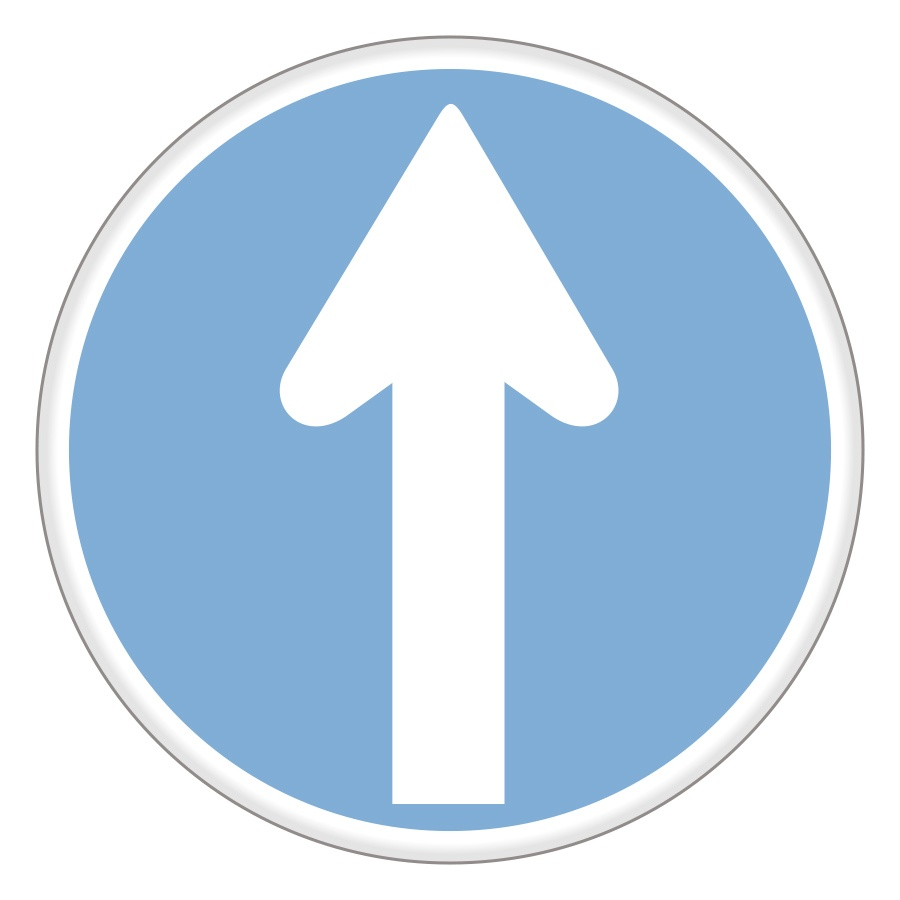Direction_sign: (14, 18, 898, 889)
